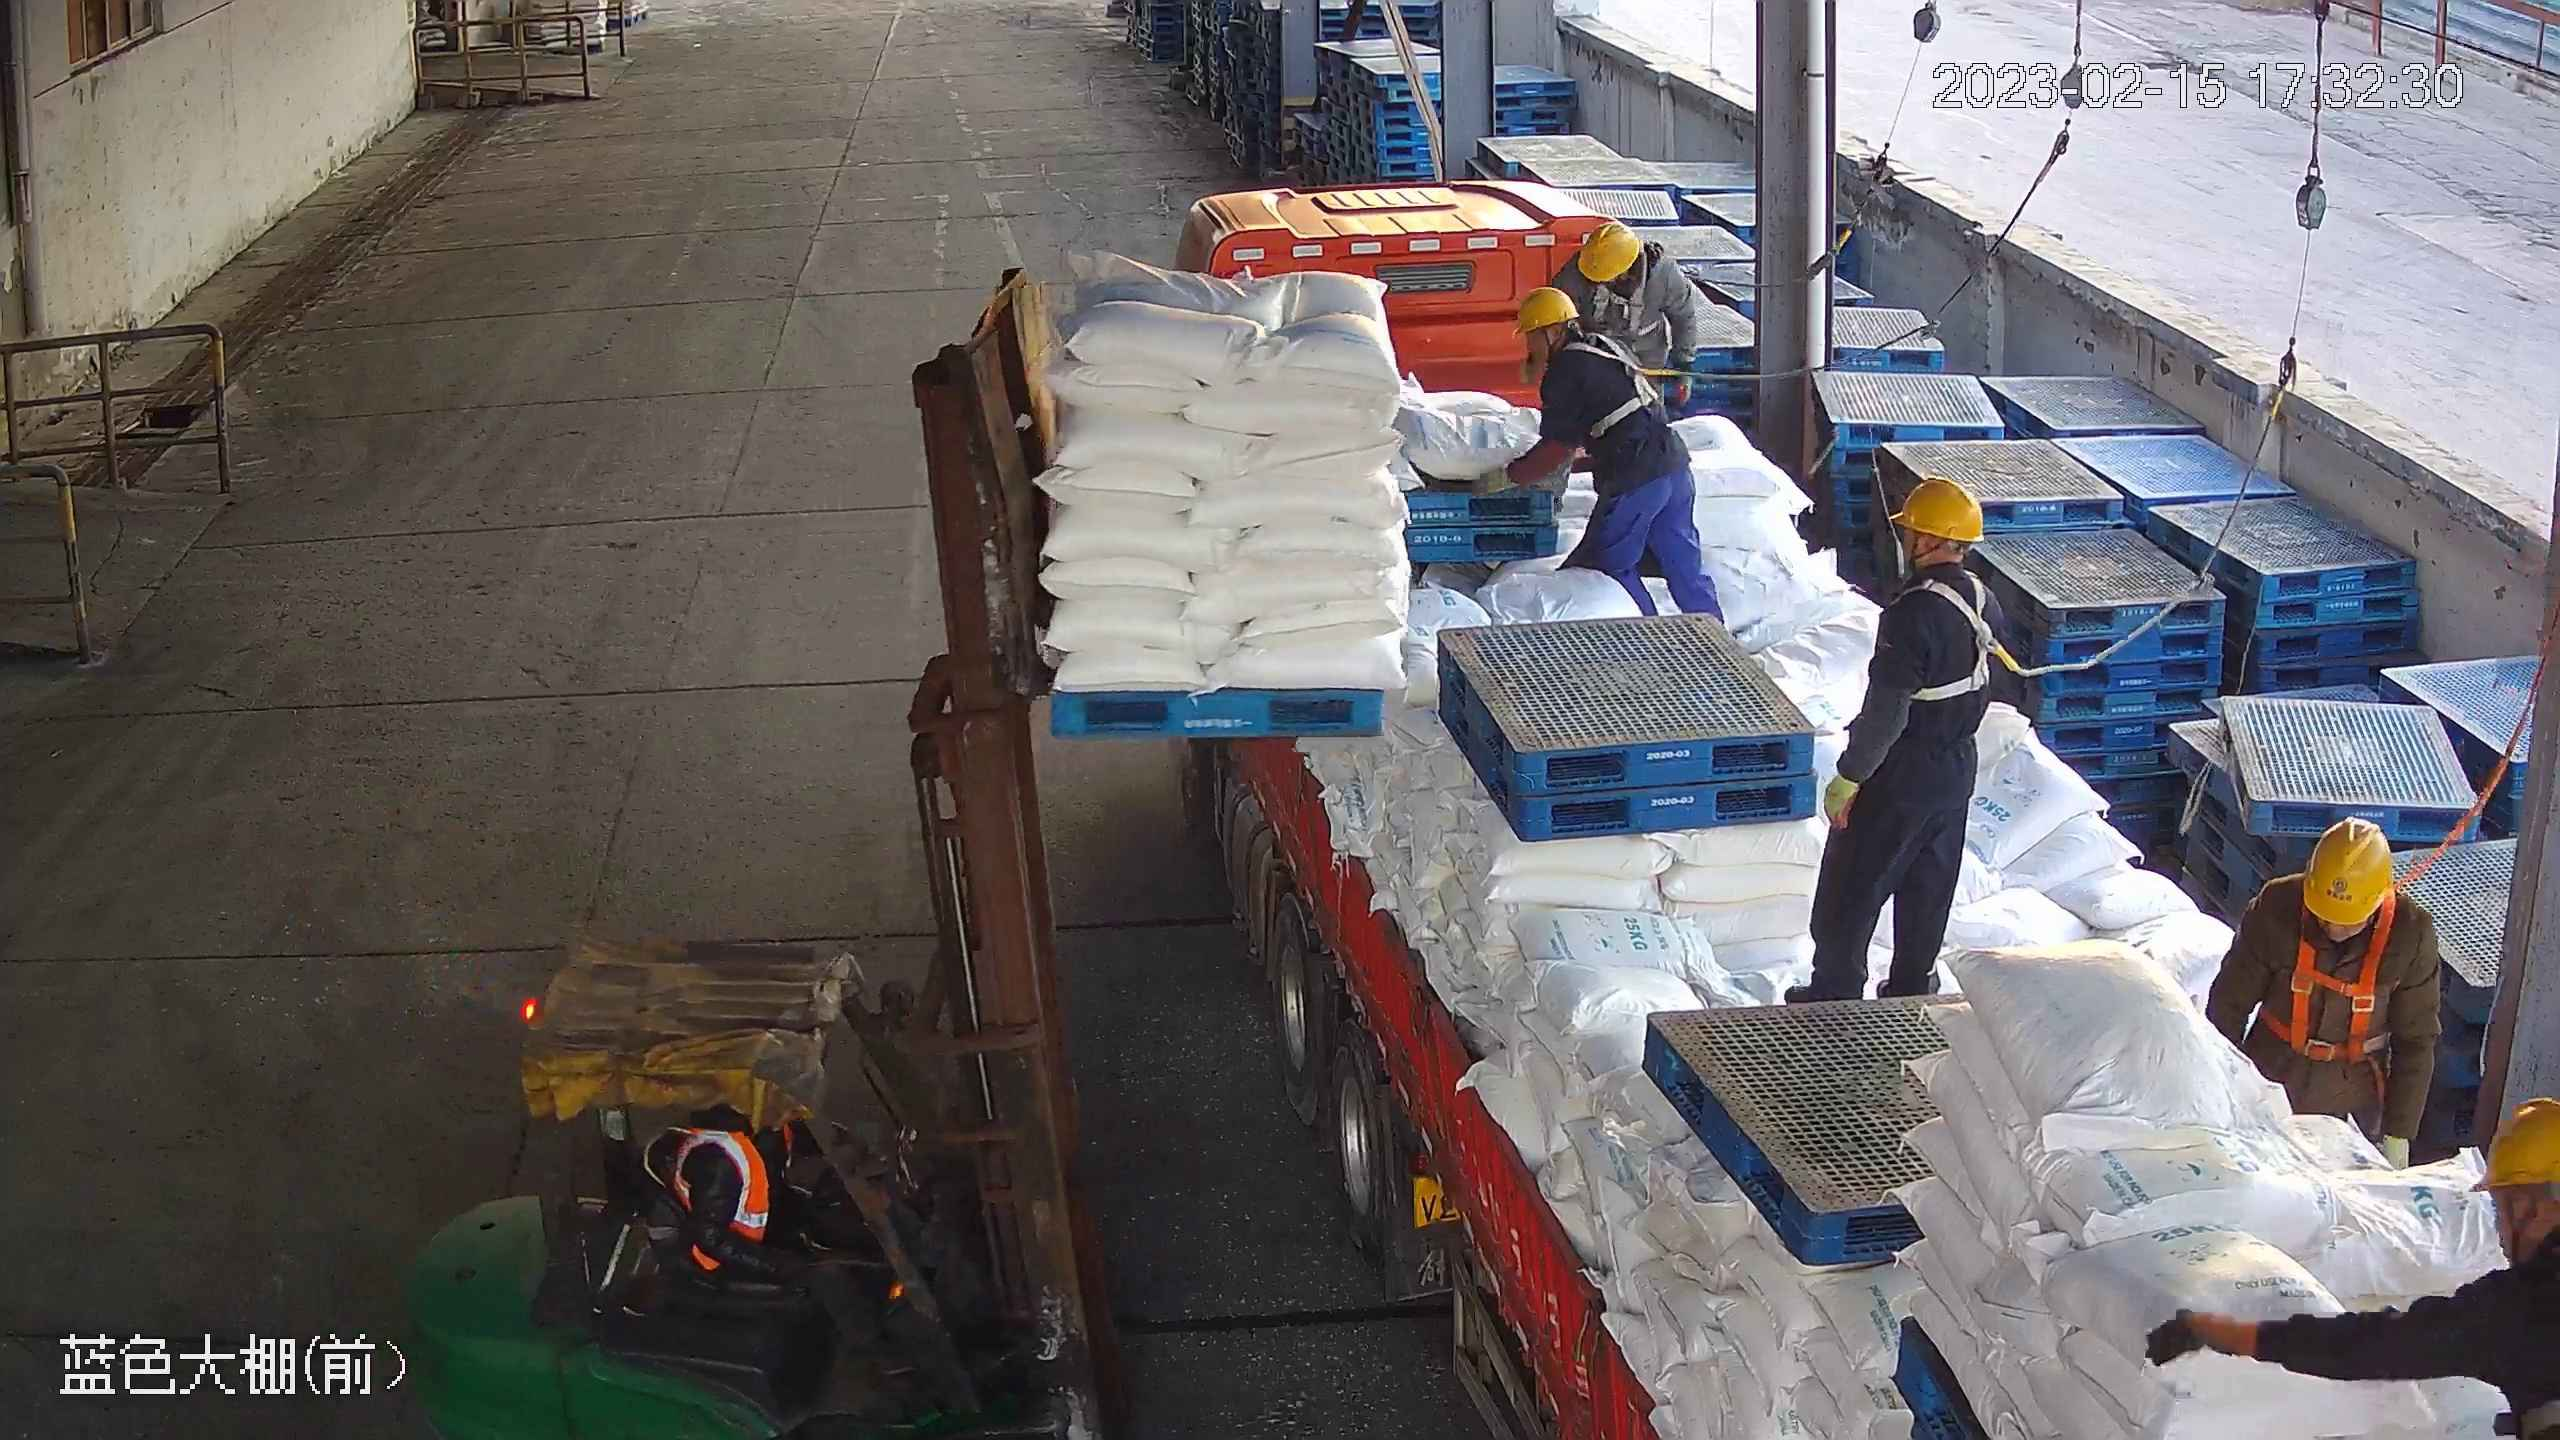belt: (2259, 890, 2418, 1068), (1887, 568, 2028, 707), (1553, 330, 1674, 441), (1584, 255, 1704, 339)
head: (2244, 813, 2444, 956), (1873, 472, 2005, 633), (1508, 285, 1648, 387), (1560, 218, 1690, 292)
helmet: (2298, 815, 2394, 926), (2469, 1095, 2560, 1198), (1888, 475, 1984, 545), (1577, 220, 1640, 283), (1509, 285, 1580, 335)
people: (1783, 474, 2010, 1004), (2206, 811, 2443, 1169), (1504, 285, 1728, 632)
truck: (1166, 178, 2560, 1440)
